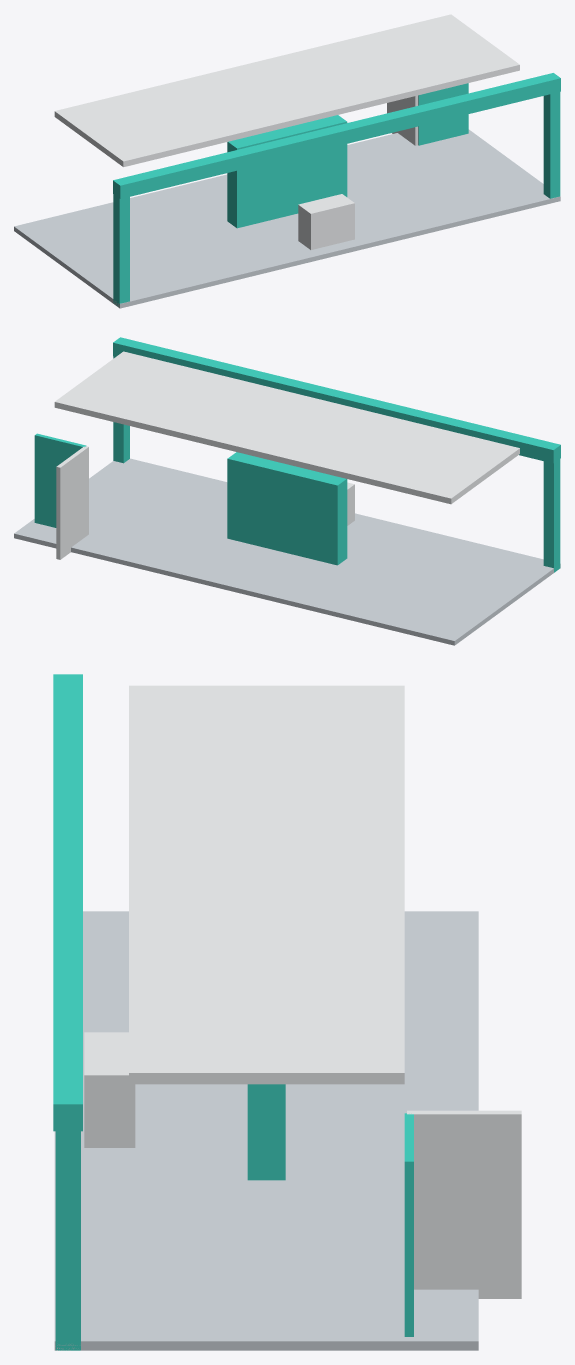
3 views of the same model, one above another, from view 1: azimuth 30°, elevation 25°; view 2: azimuth 150°, elevation 25°; view 3: azimuth 270°, elevation 25° (orthographic). The views are drawn at different scales.
Visible parts, largest first — view 1: Exhibition Booth Concept; view 2: Exhibition Booth Concept; view 3: Exhibition Booth Concept.
Boxes of the visible parts, left/top/right/bottom form: Exhibition Booth Concept: left=14, top=14, right=560, bottom=308; Exhibition Booth Concept: left=14, top=337, right=560, bottom=645; Exhibition Booth Concept: left=53, top=674, right=521, bottom=1350.
Bounding box in the file's own units: 12 × 3.34 × 5.52.
